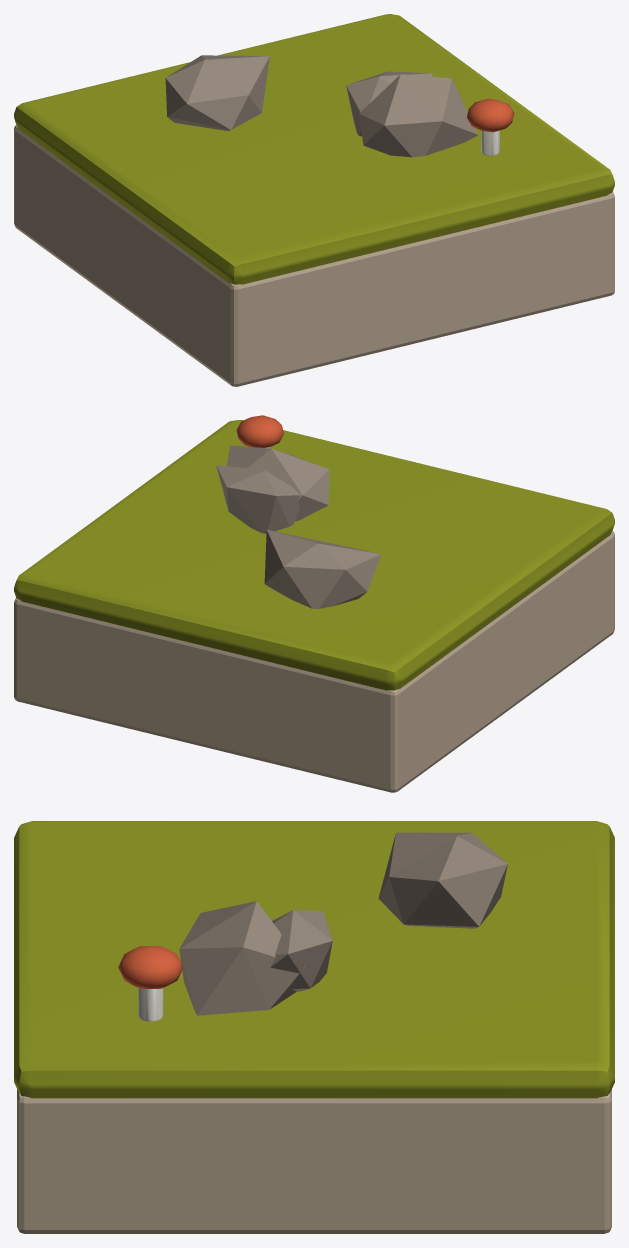
Rendered from tile_stone_mossy.glb.
3 renders of one model, top to bottom at view 1: azimuth 30°, elevation 25°; view 2: azimuth 150°, elevation 25°; view 3: azimuth 270°, elevation 25°, orthographic. The views are drawn at different scales.
Visible parts, largest first — view 1: sm_cap, sm_body, sm_r0, sm_r2, sm_r1, smm_cap; view 2: sm_cap, sm_body, sm_r2, sm_r1, sm_r0, smm_cap; view 3: sm_cap, sm_body, sm_r2, sm_r0, sm_r1, smm_cap, smm_stem.
Part boxes in pixels (bbox=[...]): sm_cap: bbox=[14, 14, 614, 284]; sm_body: bbox=[14, 125, 614, 386]; sm_r0: bbox=[359, 74, 478, 157]; sm_r2: bbox=[165, 55, 269, 130]; sm_r1: bbox=[346, 71, 432, 136]; smm_cap: bbox=[466, 98, 514, 132]; sm_cap: bbox=[14, 420, 614, 690]; sm_body: bbox=[14, 531, 614, 792]; sm_r2: bbox=[264, 529, 381, 608]; sm_r1: bbox=[216, 464, 300, 533]; sm_r0: bbox=[223, 445, 329, 521]; smm_cap: bbox=[236, 415, 283, 447]; sm_cap: bbox=[14, 821, 614, 1098]; sm_body: bbox=[17, 1089, 611, 1233]; sm_r2: bbox=[378, 832, 507, 928]; sm_r0: bbox=[179, 901, 305, 1015]; sm_r1: bbox=[270, 910, 332, 991]; smm_cap: bbox=[118, 946, 183, 988]; smm_stem: bbox=[138, 988, 163, 1021].
Bounding box in the file's own units: 2.02 × 0.9358 × 2.02.
